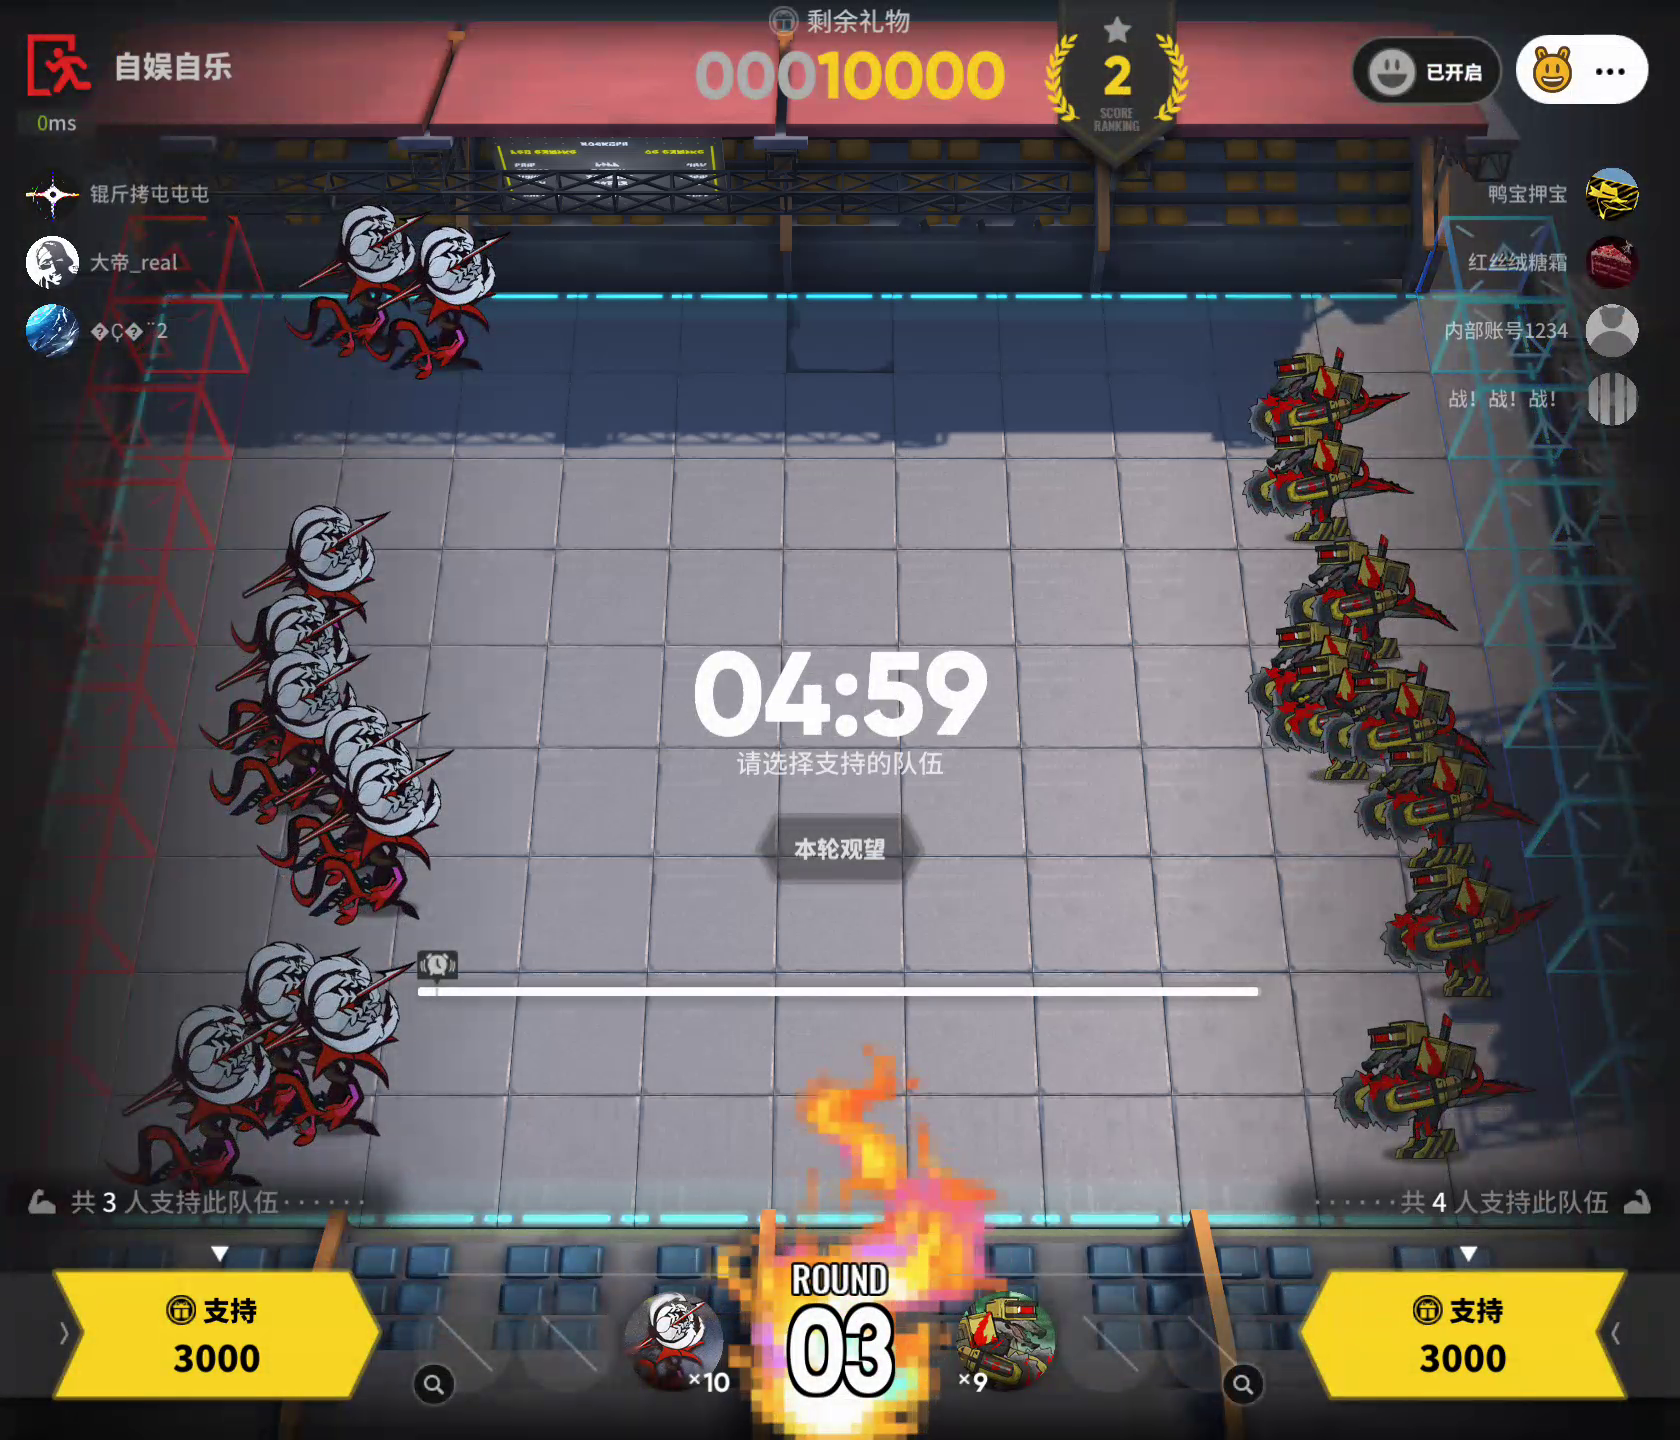机鳄战甲: (1329, 1004, 1547, 1174), (1341, 716, 1551, 881), (1374, 851, 1576, 1014), (1290, 536, 1466, 683), (1240, 334, 1416, 471), (1237, 426, 1429, 537), (1327, 647, 1474, 789), (1267, 639, 1374, 759), (954, 1289, 1066, 1399), (1243, 621, 1347, 724)
标枪恐鱼: (111, 1006, 283, 1196), (291, 743, 466, 923), (274, 959, 426, 1151), (286, 191, 434, 364), (209, 646, 389, 781), (267, 704, 439, 834), (374, 227, 516, 384), (231, 503, 396, 636), (219, 934, 347, 1100), (209, 589, 369, 704), (623, 1294, 729, 1391)
